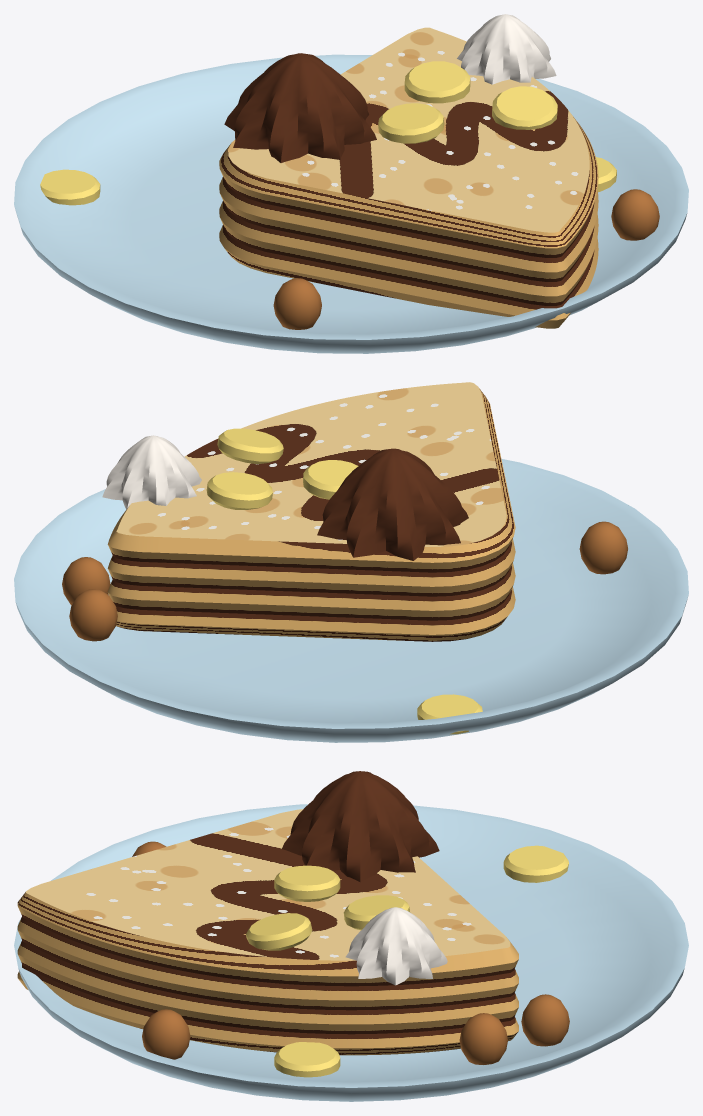
Rendered from NutellaCrepe.glb.
3 views of the same model, one above another, from view 1: azimuth 30°, elevation 25°; view 2: azimuth 150°, elevation 25°; view 3: azimuth 270°, elevation 25° (orthographic).
Visible parts, largest first — view 1: NutellaCrepe; view 2: NutellaCrepe; view 3: NutellaCrepe.
Boxes of the visible parts, bbox=[...] form: NutellaCrepe: bbox=[14, 14, 688, 353]; NutellaCrepe: bbox=[14, 382, 688, 742]; NutellaCrepe: bbox=[14, 771, 688, 1101].
Size of the model in its own units: 1.53 by 0.5 by 1.53.
Materials: 7 (7 with a texture image).
